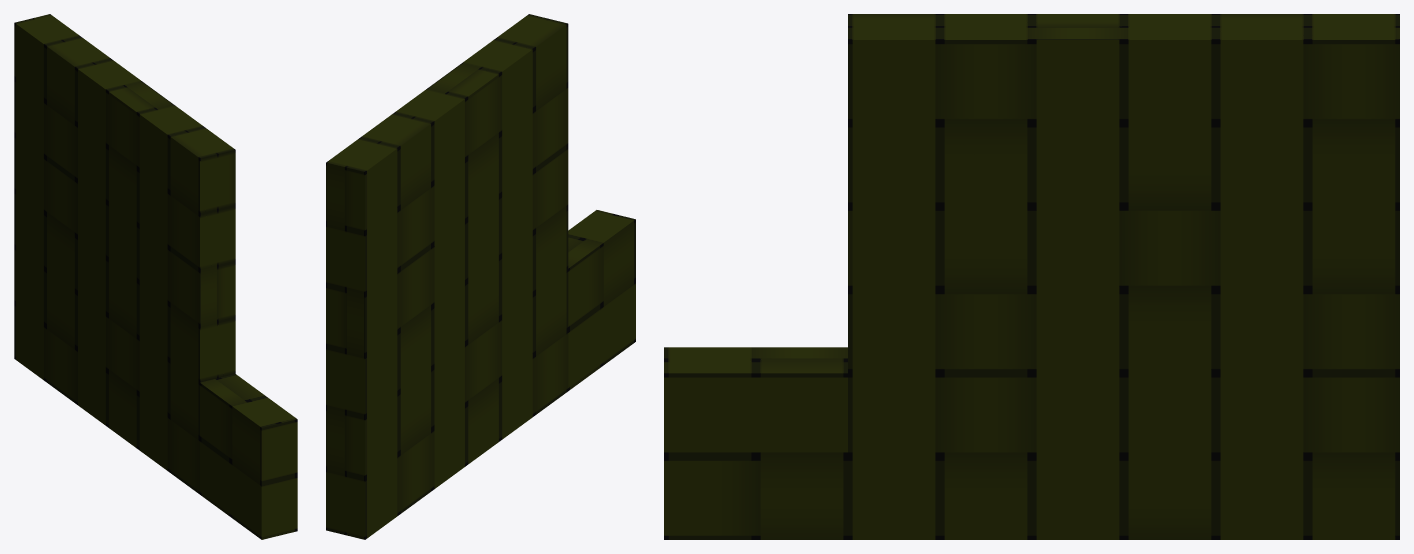
The model's file is wall.fbx.
3 renders of one model, left to right at view 1: azimuth 30°, elevation 25°; view 2: azimuth 150°, elevation 25°; view 3: azimuth 270°, elevation 25°, orthographic. The views are drawn at different scales.
Visible parts, largest first — view 1: wall 9x9, wall 3x3; view 2: wall 9x9, wall 3x3; view 3: wall 9x9, wall 3x3.
Part boxes in pixels (bbox=[...]): wall 9x9: bbox=[14, 14, 235, 494]; wall 3x3: bbox=[200, 374, 297, 539]; wall 9x9: bbox=[326, 14, 568, 539]; wall 3x3: bbox=[568, 210, 635, 390]; wall 9x9: bbox=[848, 14, 1399, 539]; wall 3x3: bbox=[664, 347, 847, 539].
Size of the model in its own units: 100 by 900 by 1200.
Materials: 2 (2 with a texture image).
